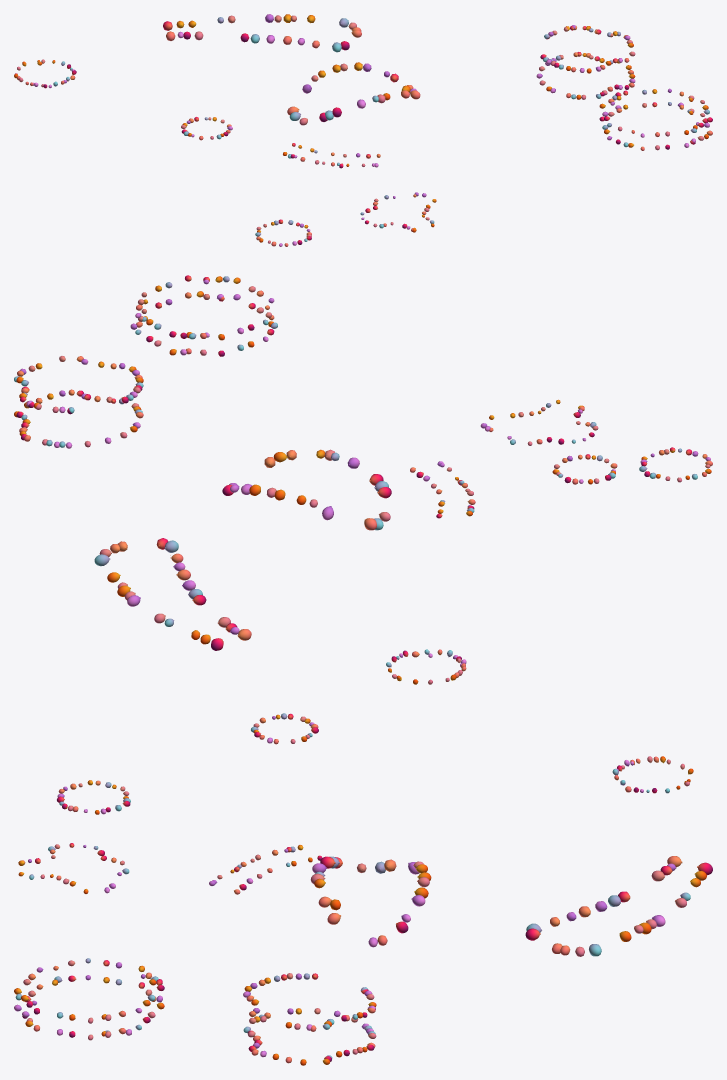
File: building_balloons.glb
3 renders of one model, top to bottom at view 1: azimuth 30°, elevation 25°; view 2: azimuth 150°, elevation 25°; view 3: azimuth 270°, elevation 25°, orthographic. The views are drawn at different scales.
Size of the model in its own units: 288 by 32.66 by 282.
Materials: 1 (1 with a texture image).
